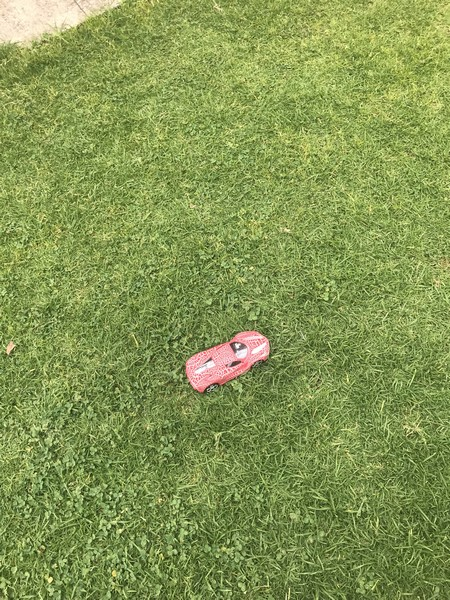RC: (182, 329, 274, 395)
